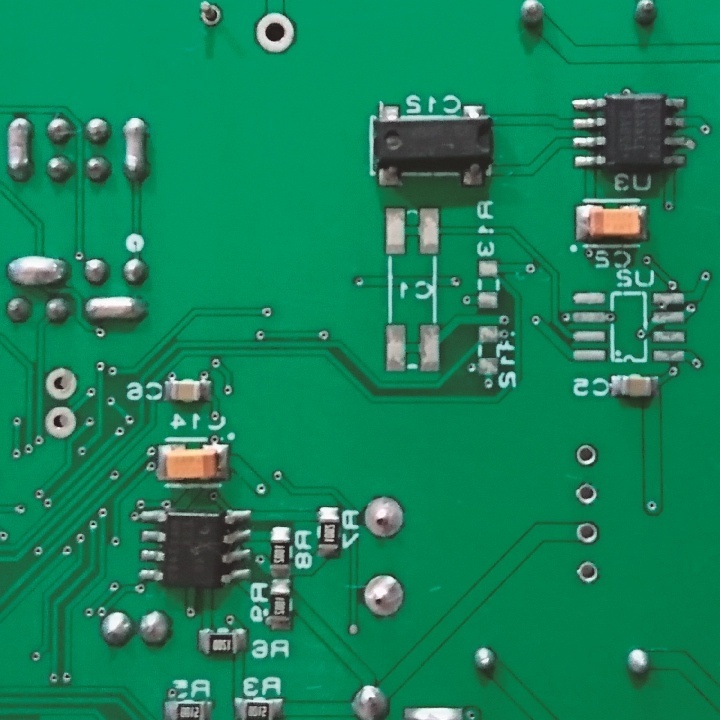F: (361, 572, 407, 619), (253, 10, 298, 56), (362, 495, 406, 540), (41, 365, 79, 400), (41, 403, 75, 438), (196, 1, 224, 30), (573, 481, 600, 506), (574, 442, 599, 467), (575, 520, 601, 544), (576, 558, 599, 584)
P: (5, 255, 71, 289), (119, 115, 150, 186), (5, 115, 34, 183), (83, 295, 147, 325)
